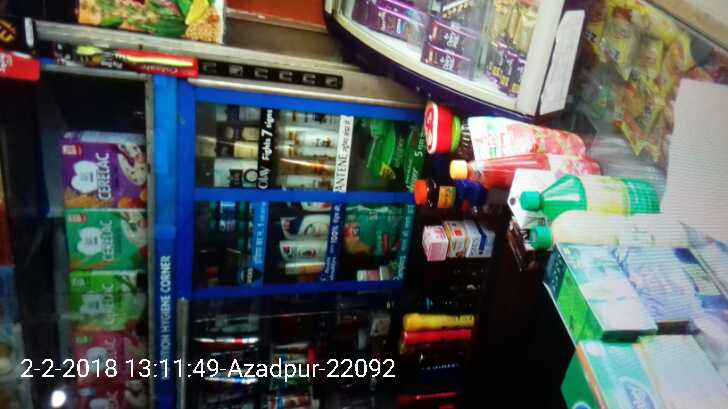vicks: (209, 199, 255, 250)
